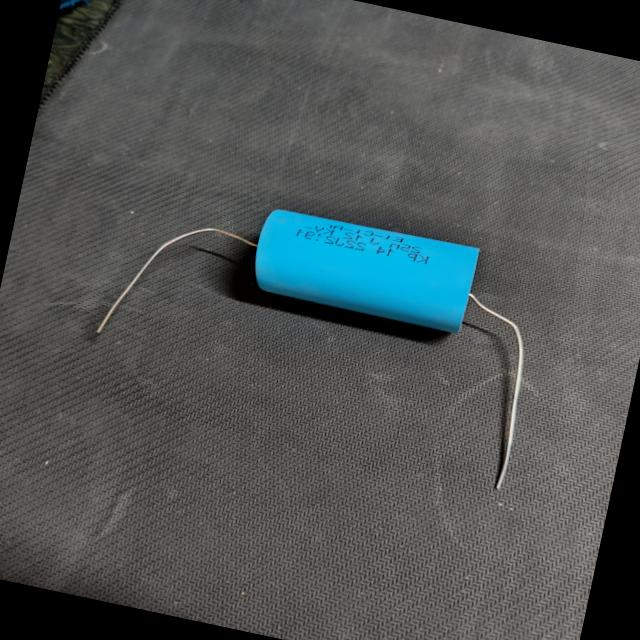capacitor: (71, 162, 563, 494)
